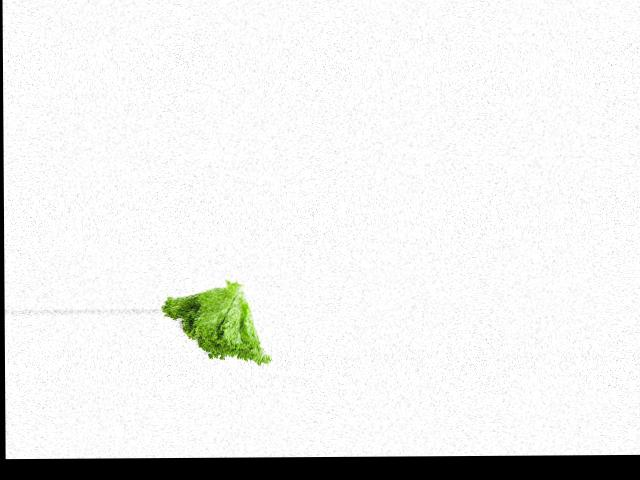lettuce: (160, 282, 272, 368)
